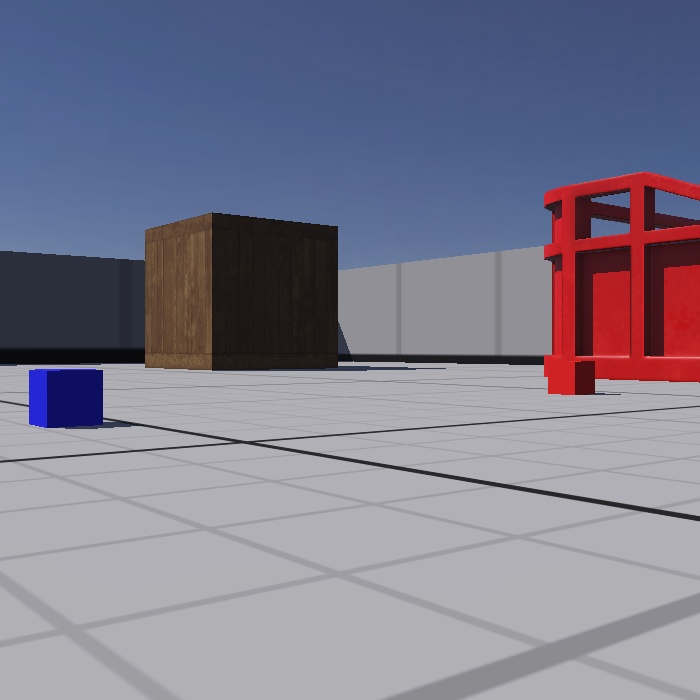caixa_vermelha: (534, 155, 700, 390)
cubo_azul: (23, 356, 111, 439)
obstaculo: (131, 200, 352, 385)
